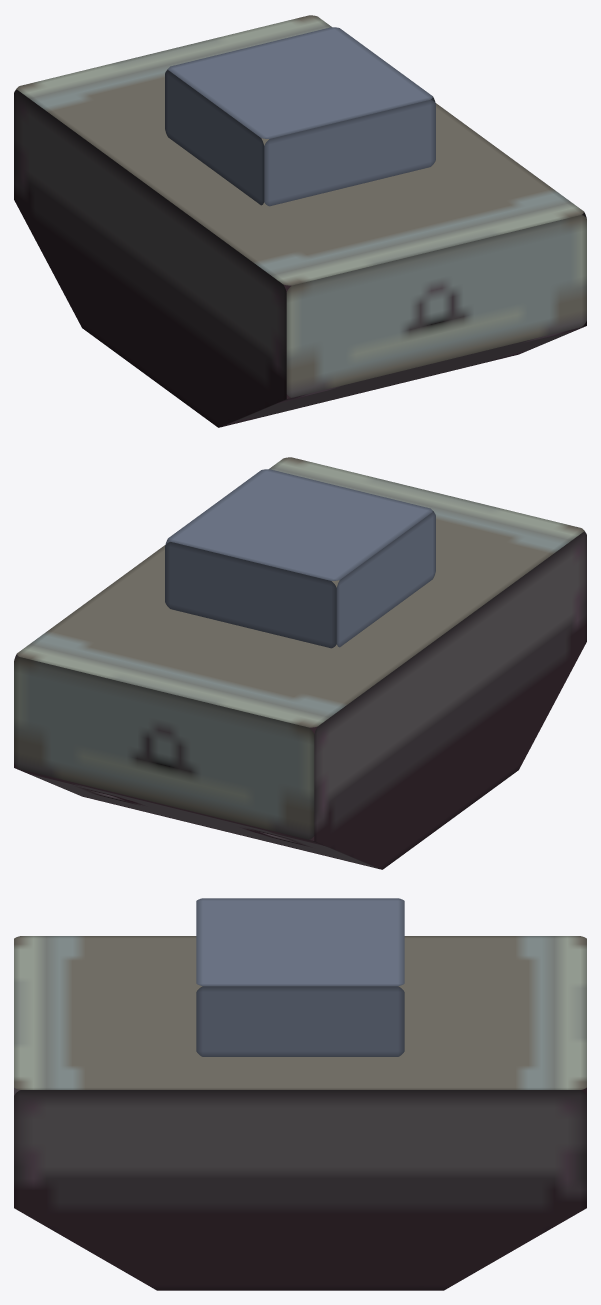
File: df21_fuel_tank.obj
3 renders of one model, top to bottom at view 1: azimuth 30°, elevation 25°; view 2: azimuth 150°, elevation 25°; view 3: azimuth 270°, elevation 25°, orthographic. The views are drawn at different scales.
Parts seen in each view (by area): view 1: youxiang_selection_selection_selection_selection_selection_selec; view 2: youxiang_selection_selection_selection_selection_selection_selec; view 3: youxiang_selection_selection_selection_selection_selection_selec.
Part boxes in pixels (x1,y1,x2,y2): youxiang_selection_selection_selection_selection_selection_selec: (14,15,586,427); youxiang_selection_selection_selection_selection_selection_selec: (14,457,586,869); youxiang_selection_selection_selection_selection_selection_selec: (14,898,586,1290).
Bounding box in the file's own units: 1.75 × 1.44 × 2.75.
